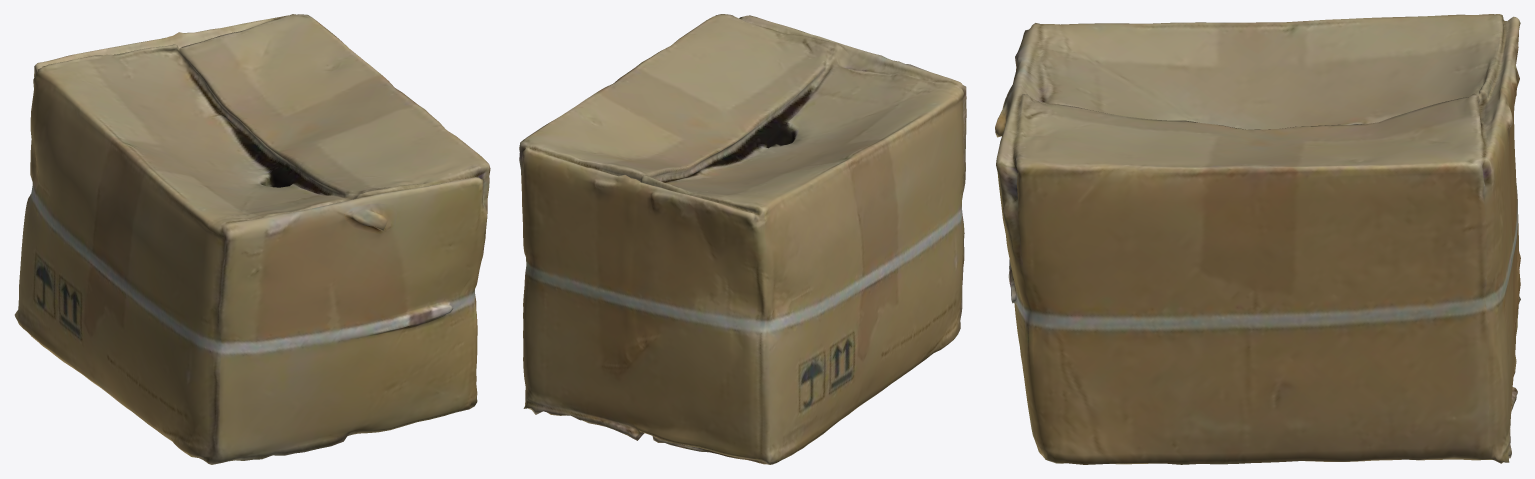
Rendered from cardboard_box_01.glb.
The picture shows the model from 3 angles, left to right: view 1: azimuth 30°, elevation 25°; view 2: azimuth 150°, elevation 25°; view 3: azimuth 270°, elevation 25°; orthographic projection. The views are drawn at different scales.
Visible parts, largest first — view 1: cardboard_box_01; view 2: cardboard_box_01; view 3: cardboard_box_01.
Part boxes in pixels (box(x1,y1,x2,y2)): cardboard_box_01: box(14, 14, 490, 464); cardboard_box_01: box(519, 14, 966, 464); cardboard_box_01: box(995, 14, 1520, 464).
Bounding box in the file's own units: 0.387 × 0.3418 × 0.5159.
1 material, 1 textured.
